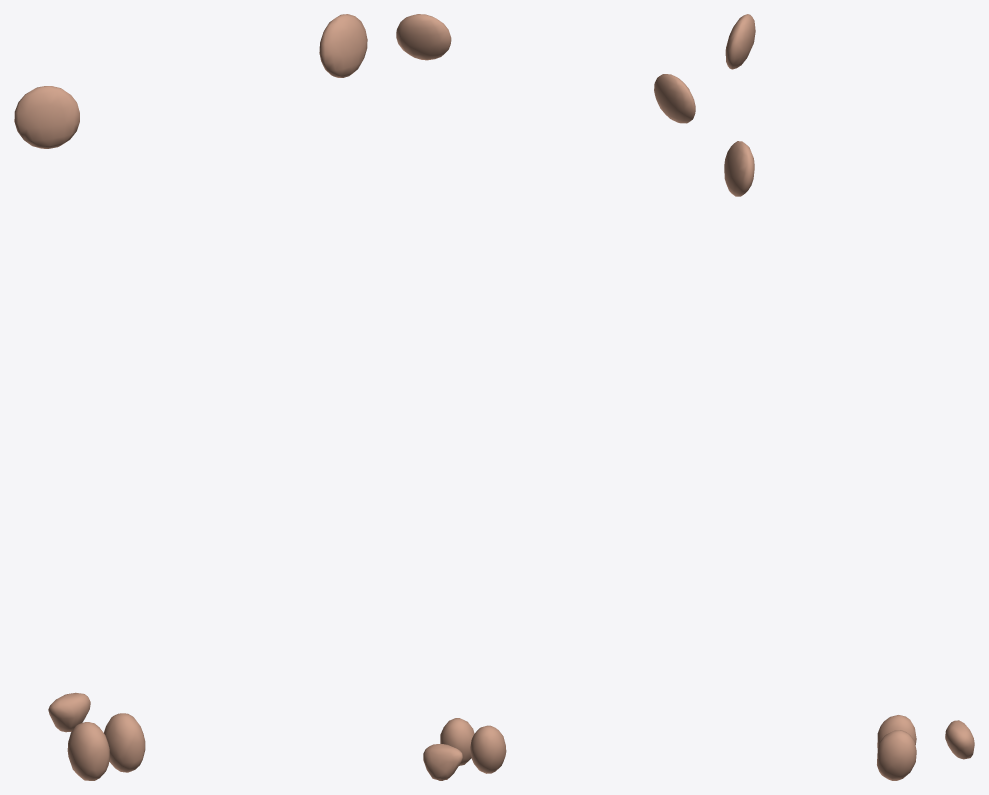
The model's file is pediatric_adolescent_male.reproductive.LOD1.glb.
The picture shows the model from 3 angles, left to right: view 1: azimuth 30°, elevation 25°; view 2: azimuth 150°, elevation 25°; view 3: azimuth 270°, elevation 25°; orthographic projection. The views are drawn at different scales.
Parts seen in each view (by area): view 1: PEDIATRIC.ADOLESCENT.MALE.REPRODUCTIVE.BREAST_ADIPOSE_TISSUE (×2), PEDIATRIC.ADOLESCENT.MALE.REPRODUCTIVE.TESTIS.R, PEDIATRIC.ADOLESCENT.MALE.REPRODUCTIVE.TESTIS.L, PEDIATRIC.ADOLESCENT.MALE.REPRODUCTIVE.PROSTATE; view 2: PEDIATRIC.ADOLESCENT.MALE.REPRODUCTIVE.BREAST_ADIPOSE_TISSUE (×2), PEDIATRIC.ADOLESCENT.MALE.REPRODUCTIVE.TESTIS.R, PEDIATRIC.ADOLESCENT.MALE.REPRODUCTIVE.PROSTATE, PEDIATRIC.ADOLESCENT.MALE.REPRODUCTIVE.TESTIS.L; view 3: PEDIATRIC.ADOLESCENT.MALE.REPRODUCTIVE.BREAST_ADIPOSE_TISSUE (×2), PEDIATRIC.ADOLESCENT.MALE.REPRODUCTIVE.TESTIS.L, PEDIATRIC.ADOLESCENT.MALE.REPRODUCTIVE.PROSTATE, PEDIATRIC.ADOLESCENT.MALE.REPRODUCTIVE.TESTIS.R.
Boxes of the visible parts, x1,y1,x2,y2 form: PEDIATRIC.ADOLESCENT.MALE.REPRODUCTIVE.BREAST_ADIPOSE_TISSUE (×2): (14, 14, 367, 148); PEDIATRIC.ADOLESCENT.MALE.REPRODUCTIVE.TESTIS.R: (67, 722, 109, 780); PEDIATRIC.ADOLESCENT.MALE.REPRODUCTIVE.TESTIS.L: (104, 713, 145, 772); PEDIATRIC.ADOLESCENT.MALE.REPRODUCTIVE.PROSTATE: (48, 692, 90, 732); PEDIATRIC.ADOLESCENT.MALE.REPRODUCTIVE.BREAST_ADIPOSE_TISSUE (×2): (396, 14, 695, 123); PEDIATRIC.ADOLESCENT.MALE.REPRODUCTIVE.TESTIS.R: (470, 725, 506, 773); PEDIATRIC.ADOLESCENT.MALE.REPRODUCTIVE.PROSTATE: (423, 744, 462, 780); PEDIATRIC.ADOLESCENT.MALE.REPRODUCTIVE.TESTIS.L: (440, 718, 474, 765); PEDIATRIC.ADOLESCENT.MALE.REPRODUCTIVE.BREAST_ADIPOSE_TISSUE (×2): (724, 14, 755, 196); PEDIATRIC.ADOLESCENT.MALE.REPRODUCTIVE.TESTIS.L: (877, 730, 916, 780); PEDIATRIC.ADOLESCENT.MALE.REPRODUCTIVE.PROSTATE: (945, 720, 974, 759); PEDIATRIC.ADOLESCENT.MALE.REPRODUCTIVE.TESTIS.R: (877, 715, 916, 747).
Bounding box in the file's own units: 0.2104 × 0.451 × 0.1479.
